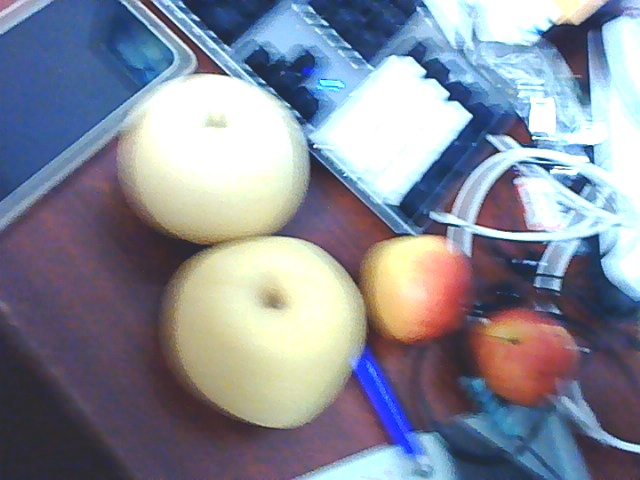peach: (372, 236, 476, 345), (481, 304, 579, 399)
pear: (164, 241, 364, 423), (125, 81, 316, 238)
